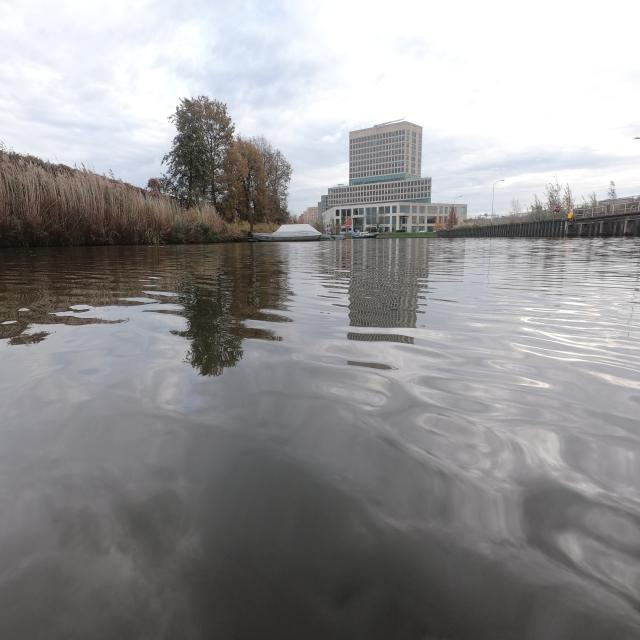boat: (252, 224, 322, 242), (352, 231, 378, 239)
reed: (0, 151, 249, 246), (254, 223, 278, 232)
wall: (437, 202, 640, 238)
water: (0, 238, 640, 640)
